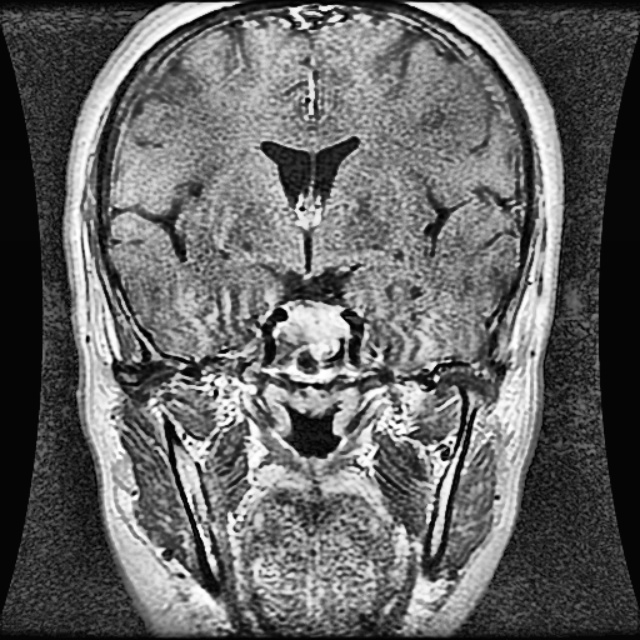Pituitary: (273, 299, 350, 372)
